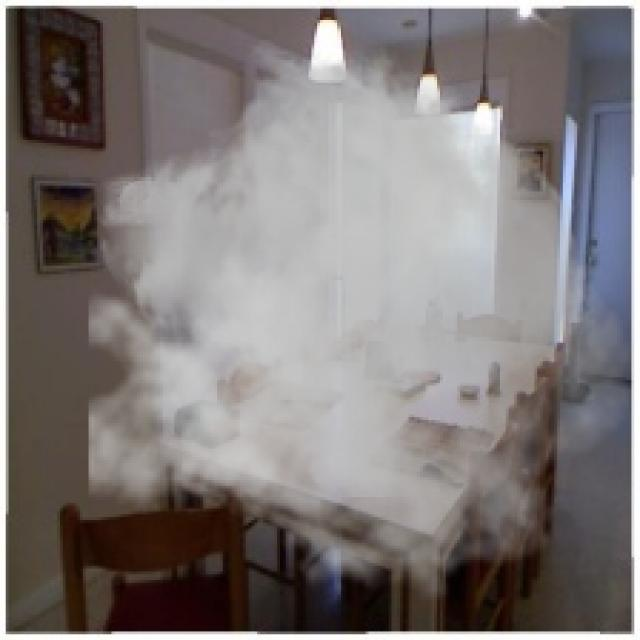smoke: (89, 37, 634, 603)
